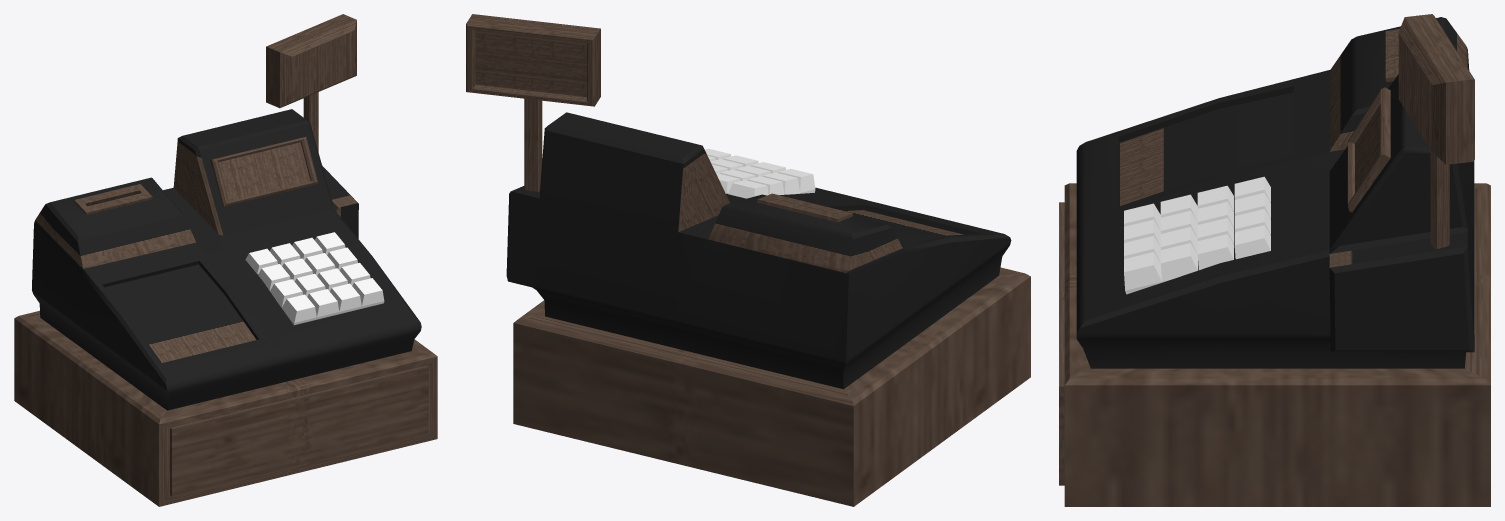
File: CashRegister.fbx
3 views of the same model, side by side, from view 1: azimuth 30°, elevation 25°; view 2: azimuth 150°, elevation 25°; view 3: azimuth 270°, elevation 25° (orthographic). The views are drawn at different scales.
Parts seen in each view (by area): view 1: CashRegister; view 2: CashRegister; view 3: CashRegister.
Boxes of the visible parts, x1=… form: CashRegister: x1=14, y1=14, x2=437, y2=506; CashRegister: x1=466, y1=14, x2=1030, y2=506; CashRegister: x1=1059, y1=14, x2=1490, y2=506.
Size of the model in its own units: 51.44 by 46.9 by 39.95.
